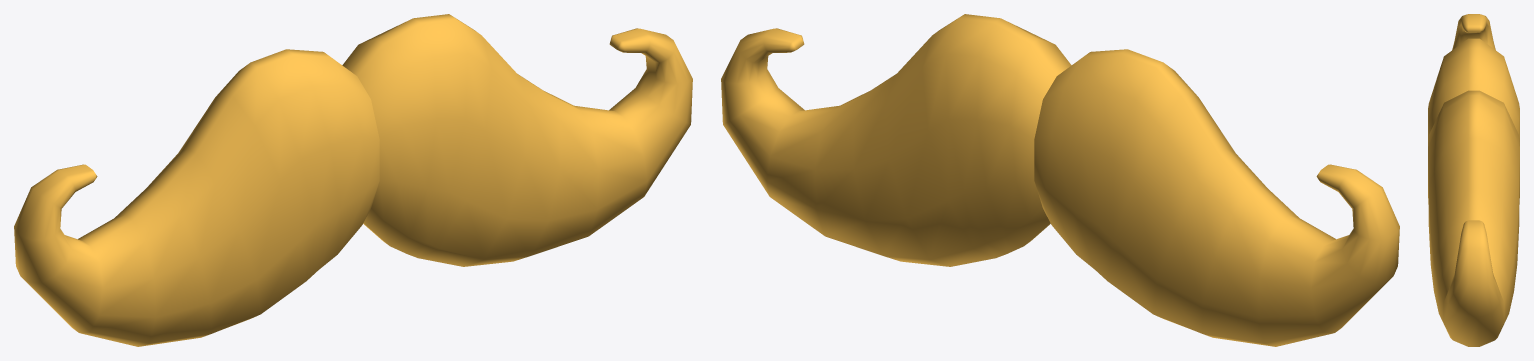
The model's file is Beard_10_05.fbx.
The picture shows the model from 3 angles, left to right: view 1: azimuth 30°, elevation 25°; view 2: azimuth 150°, elevation 25°; view 3: azimuth 270°, elevation 25°; orthographic projection. The views are drawn at different scales.
Visible parts, largest first — view 1: Beard_10_05; view 2: Beard_10_05; view 3: Beard_10_05.
Boxes of the visible parts, x1,y1,x2,y2 form: Beard_10_05: (14, 14, 692, 346); Beard_10_05: (721, 14, 1399, 346); Beard_10_05: (1428, 14, 1519, 346).
Size of the model in its own units: 18.39 by 6.86 by 2.89.
